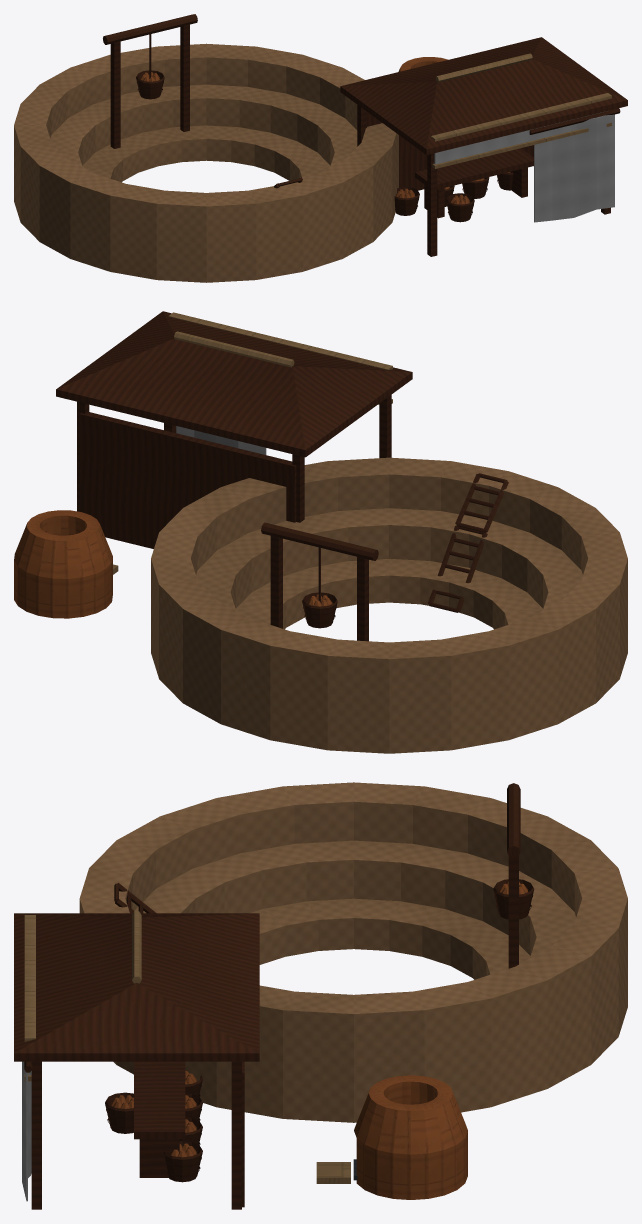
Rendered from copper_mine-aee9ccc9.glb.
3 renders of one model, top to bottom at view 1: azimuth 30°, elevation 25°; view 2: azimuth 150°, elevation 25°; view 3: azimuth 270°, elevation 25°, orthographic. The views are drawn at different scales.
Parts seen in each view (by area): view 1: LOD0; view 2: LOD0; view 3: LOD0.
Part boxes in pixels (box(x1,y1,x2,y2)): LOD0: box(14, 14, 627, 282); LOD0: box(14, 311, 627, 753); LOD0: box(14, 782, 627, 1209).
Size of what is drawn, in the model's own units: 1.35 by 0.3923 by 1.07.
2 materials, 2 textured.
